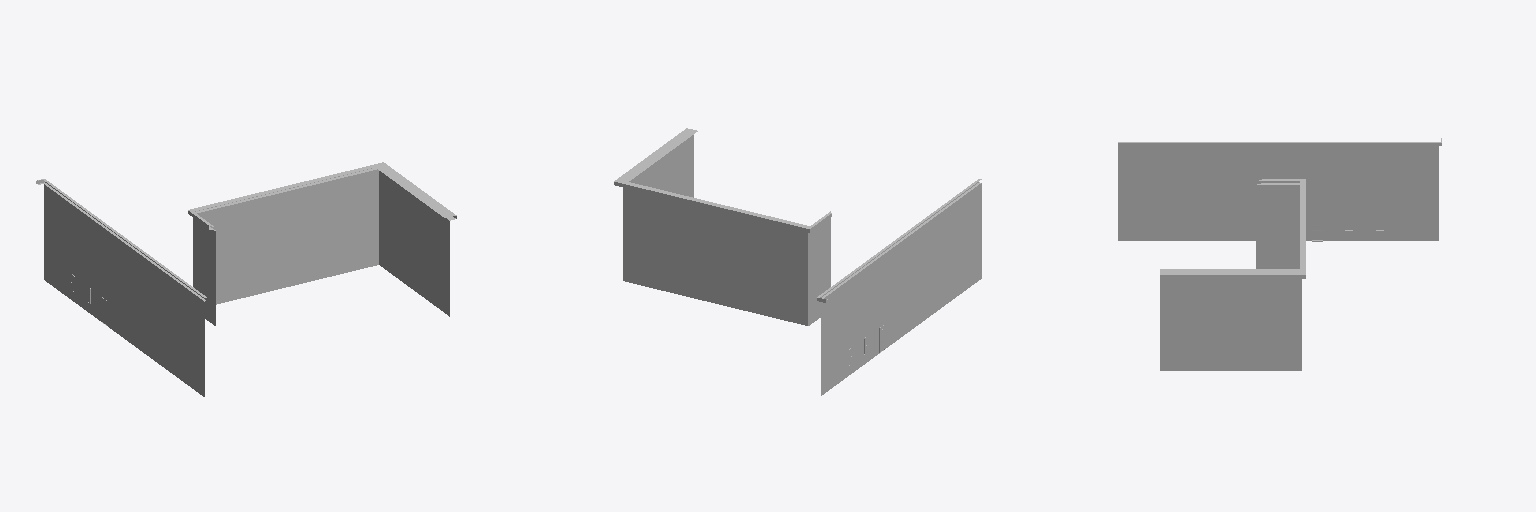
File: AlleyWayOutofBounds2.obj
3 renders of one model, left to right at view 1: azimuth 30°, elevation 25°; view 2: azimuth 150°, elevation 25°; view 3: azimuth 270°, elevation 25°, orthographic.
Visible parts, largest first — view 1: Cube.003_Cube.004; view 2: Cube.003_Cube.004; view 3: Cube.003_Cube.004.
Boxes of the visible parts, x1,y1,x2,y2 form: Cube.003_Cube.004: [36, 162, 456, 396]; Cube.003_Cube.004: [614, 128, 981, 395]; Cube.003_Cube.004: [1118, 138, 1441, 370].
Bounding box in the file's own units: 23.78 × 8.02 × 23.69.